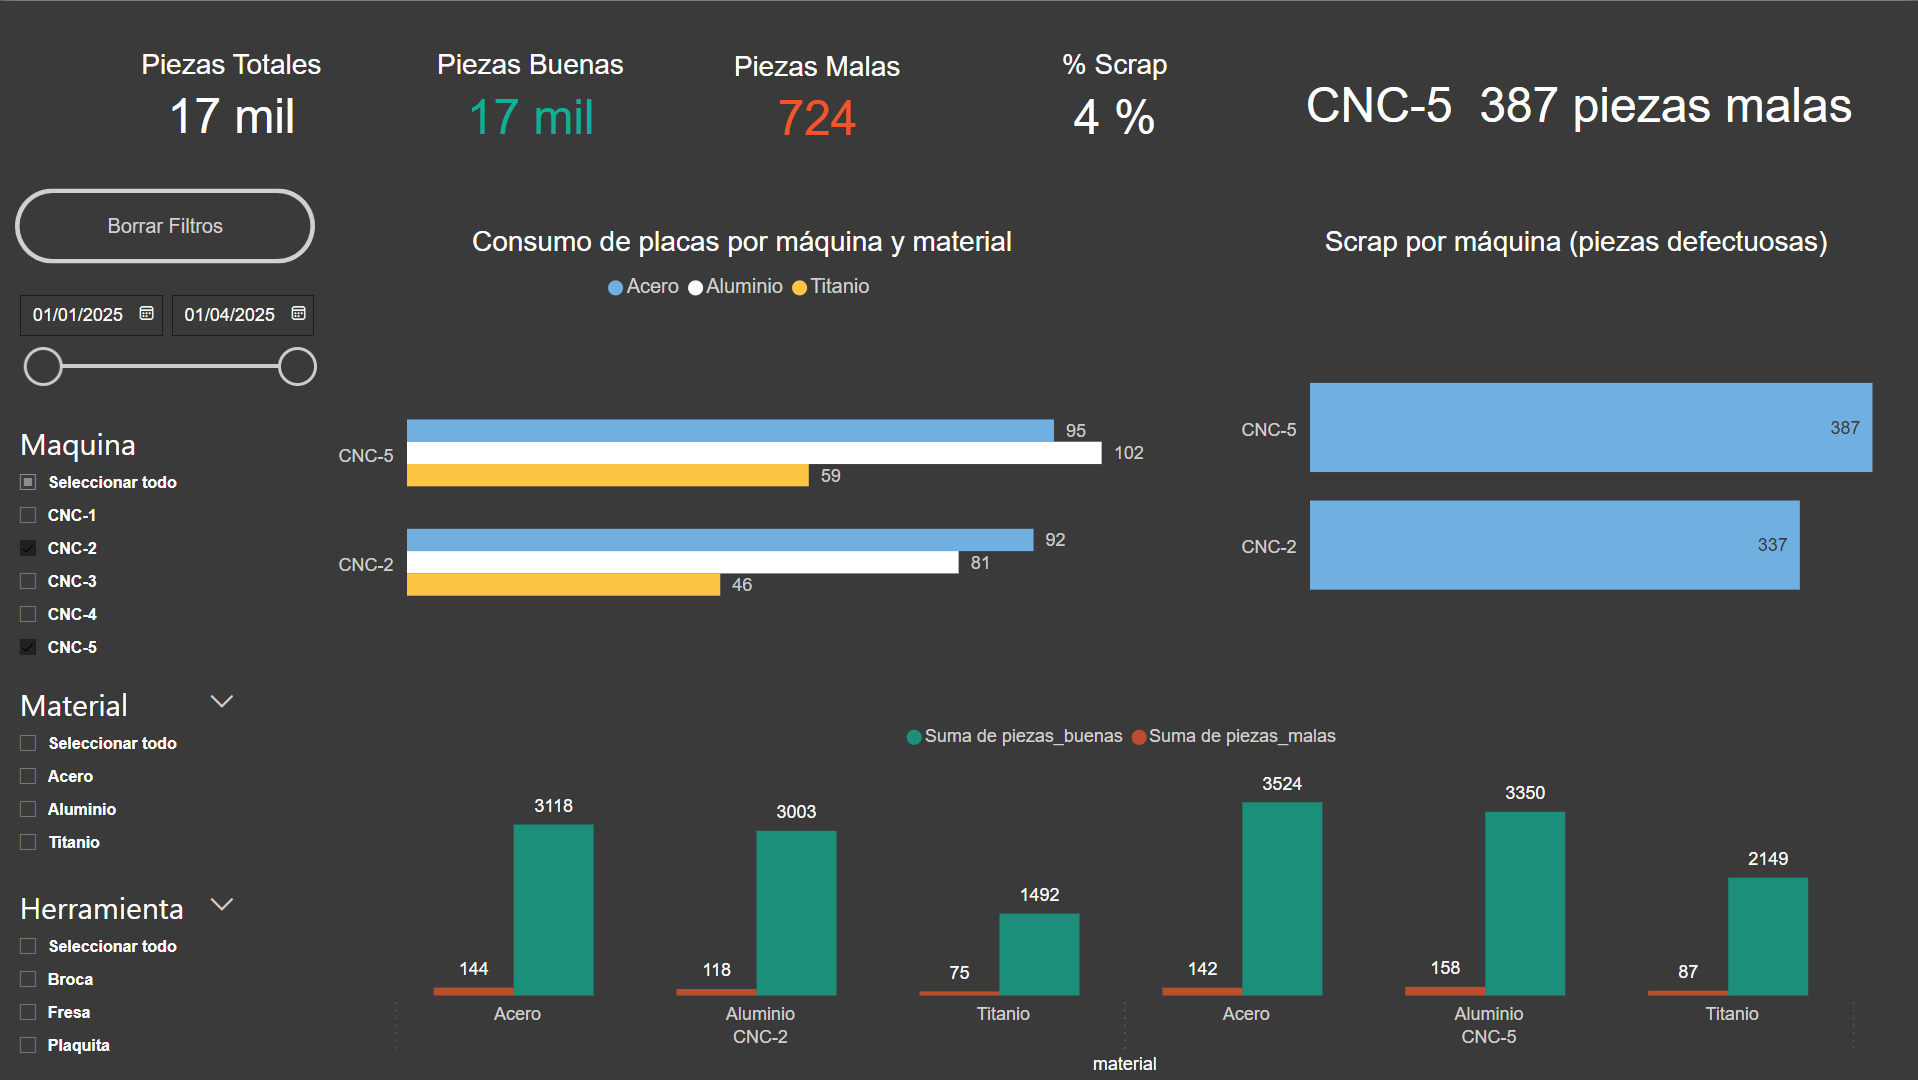

What the dashboard file says about the page in this screenshot:
{"tool":"powerbi","page":{"name":"Página 1","canvas":[1280,720],"ordinal":0},"visuals":[{"type":"clusteredColumnChart","fields":{"Category":["dim_maquinas.nombre_maquina","dim_piezas.material"],"Y":["Sum(fact_produccion.piezas_buenas)","Sum(fact_produccion.piezas_malas)"]},"box":[250.9,471.1,1028.8,248.8],"z":0},{"type":"slicer","title":"Tipo de herramienta","fields":{"Values":["dim_herramientas.tipo_herramienta"]},"box":[0,285.2,167.7,130.7],"z":1000},{"type":"slicer","title":"Nombre de maquina","fields":{"Values":["dim_maquinas.nombre_maquina"]},"box":[0,415.9,144,169.8],"z":2000},{"type":"slicer","fields":{"Values":["dim_piezas.material"]},"box":[0,585.7,136.3,134.2],"z":3000},{"type":"actionButton","box":[10,125,200,50],"z":4000},{"type":"card","title":"Piezas Totales","fields":{"Values":["fact_produccion.Piezas Totales"]},"box":[56.7,31.5,194.5,67.7],"z":5000},{"type":"card","title":"Piezas Buenas","fields":{"Values":["Sum(fact_produccion.piezas_buenas)"]},"box":[251,32,205,67.7],"z":6000},{"type":"card","title":"Piezas Malas","fields":{"Values":["Sum(fact_produccion.piezas_malas)"]},"box":[455.9,32.6,177.4,67],"z":7000},{"type":"card","title":"% Scrap","fields":{"Values":["fact_produccion.Scrap %"]},"box":[633.3,32,220.1,67.7],"z":8000},{"type":"barChart","title":"Scrap Por Maquina","fields":{"Category":["dim_maquinas.nombre_maquina"],"Y":["fact_produccion.Scrap por pieza"]},"box":[821.3,209.7,458.5,261.4],"z":9000},{"type":"clusteredBarChart","title":"Placas Usadas","fields":{"Y":["Sum(fact_produccion.placas_usadas)"],"Category":["dim_maquinas.nombre_maquina"],"Series":["dim_piezas.material"]},"box":[199.9,209.7,570.3,261.4],"z":10000},{"type":"card","fields":{"Values":["fact_produccion.Máquina con más scrap"]},"box":[853.4,32.9,398.4,67.8],"z":11000},{"type":"slicer","fields":{"Values":["fact_produccion.fecha"]},"box":[0,195,219.5,90.2],"z":11001}]}

Visuals, with their boxes in screenshot pixels (x1, y1, x2, y2), scaled from the page's 1280x720 canvas onto the 1918x1080 screenshot:
clusteredColumnChart - dim_maquinas.nombre_maquina x dim_piezas.material: locate(376, 707, 1917, 1079)
"Tipo de herramienta" slicer: locate(0, 428, 251, 624)
"Nombre de maquina" slicer: locate(0, 624, 216, 879)
slicer - dim_piezas.material: locate(0, 879, 204, 1079)
actionButton: locate(15, 188, 315, 262)
"Piezas Totales" card: locate(85, 47, 376, 149)
"Piezas Buenas" card: locate(376, 48, 683, 150)
"Piezas Malas" card: locate(683, 49, 949, 149)
"% Scrap" card: locate(949, 48, 1279, 150)
"Scrap Por Maquina" barChart: locate(1231, 315, 1917, 707)
"Placas Usadas" clusteredBarChart: locate(300, 315, 1154, 707)
card - fact_produccion.Máquina con más scrap: locate(1279, 49, 1876, 151)
slicer - fact_produccion.fecha: locate(0, 292, 329, 428)
